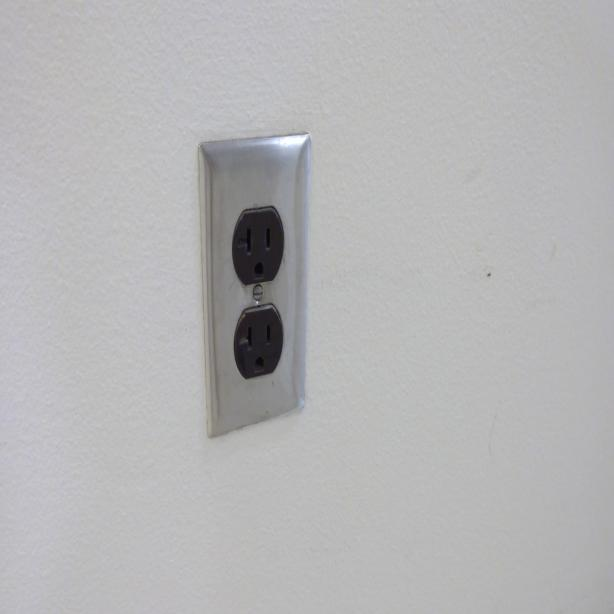typeb: (231, 207, 283, 284), (233, 313, 282, 375)
